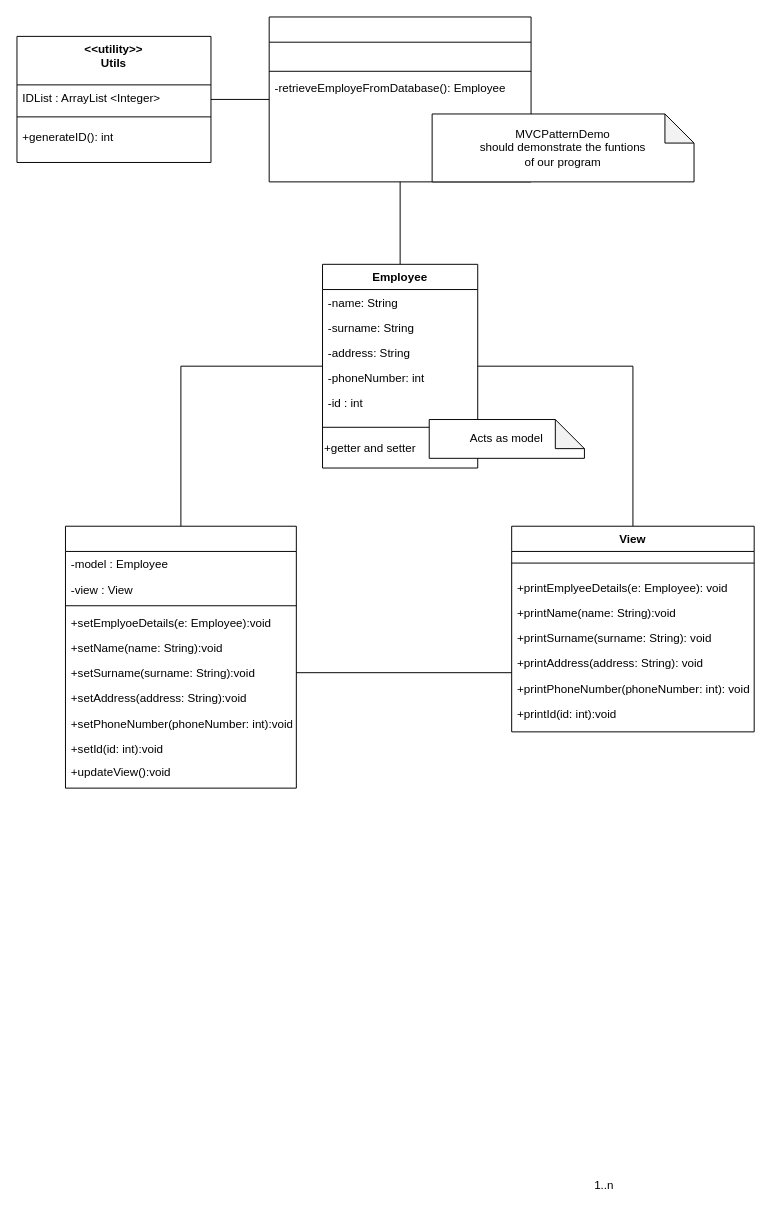
Some shapes in this 771 by 1213 pixel diagram are drawn without their labels. The shapes that lost their labels are listed below. From the top down, each one's box as (x1, y1, x2, y2) in pixels, then its label:
(268, 16, 531, 182): MVCPatternDemo
(65, 525, 296, 788): Controller
